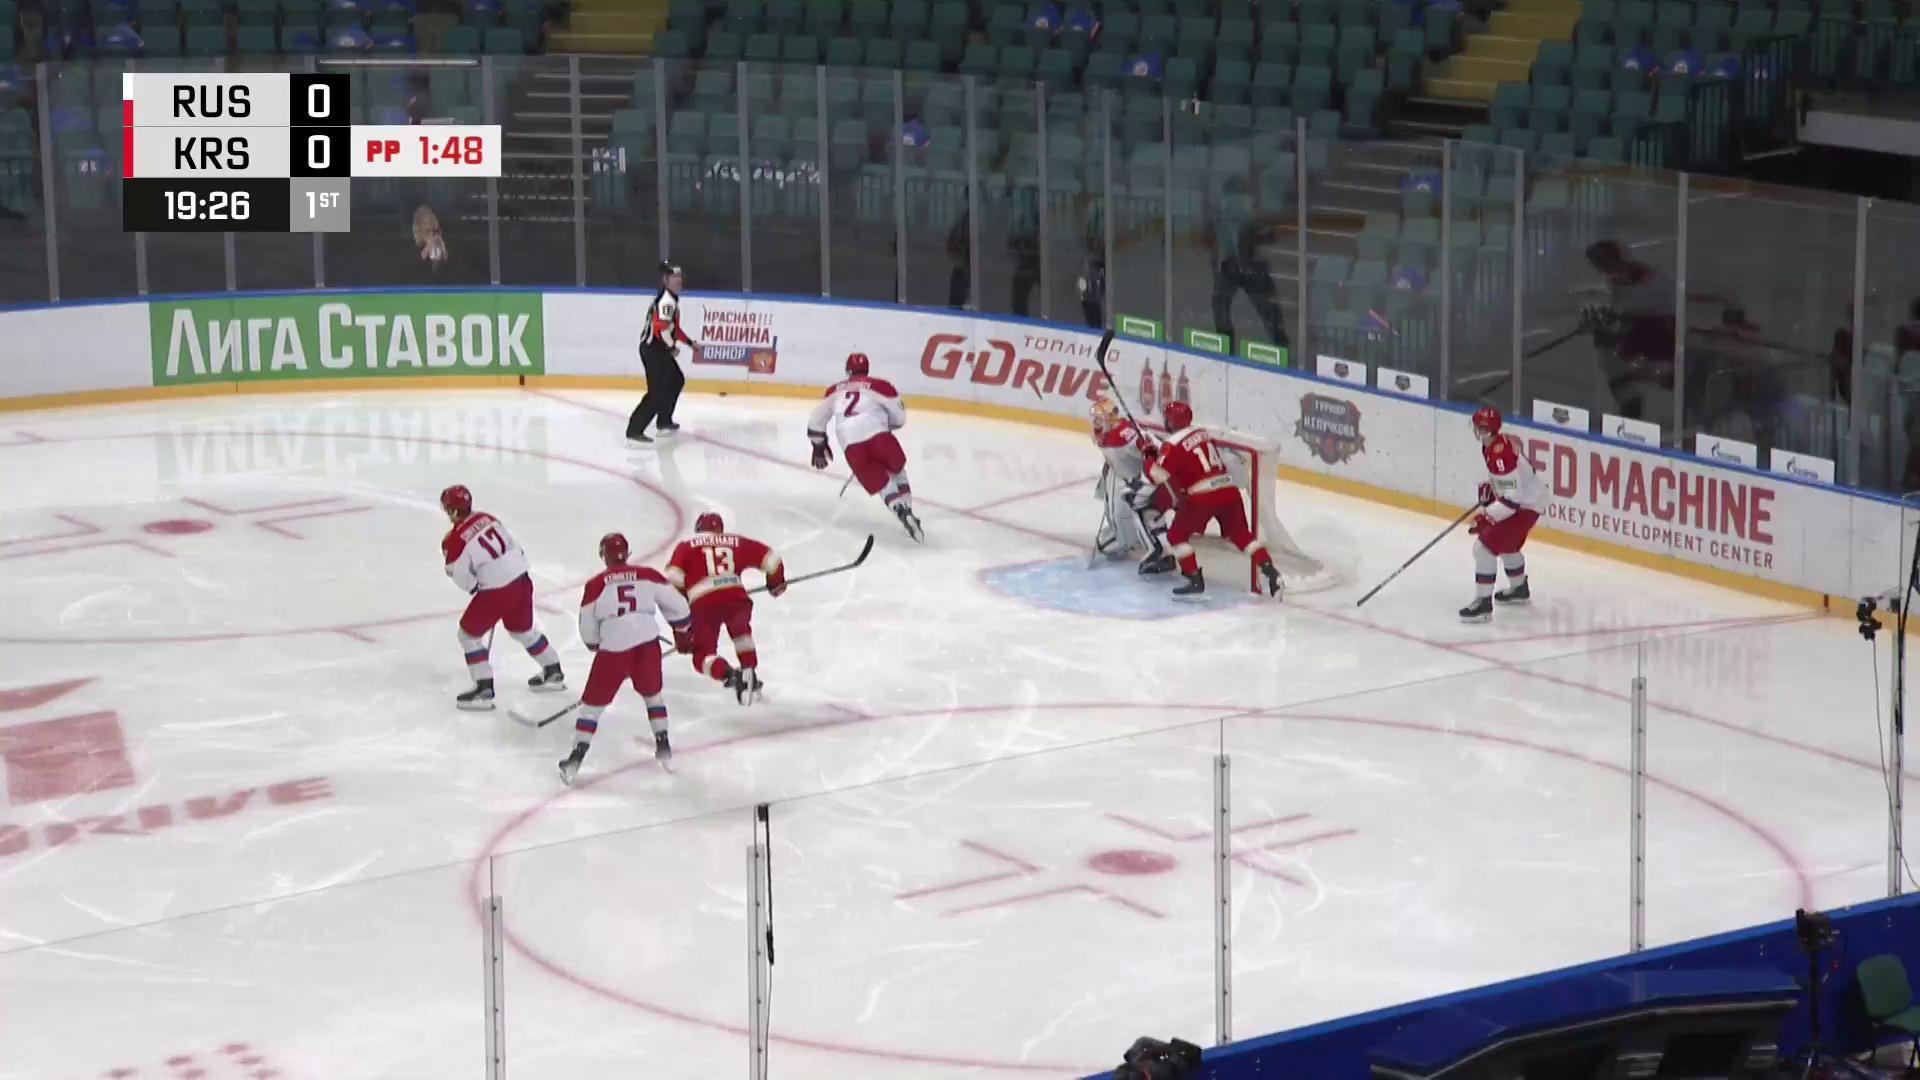ball: (719, 390, 728, 400)
